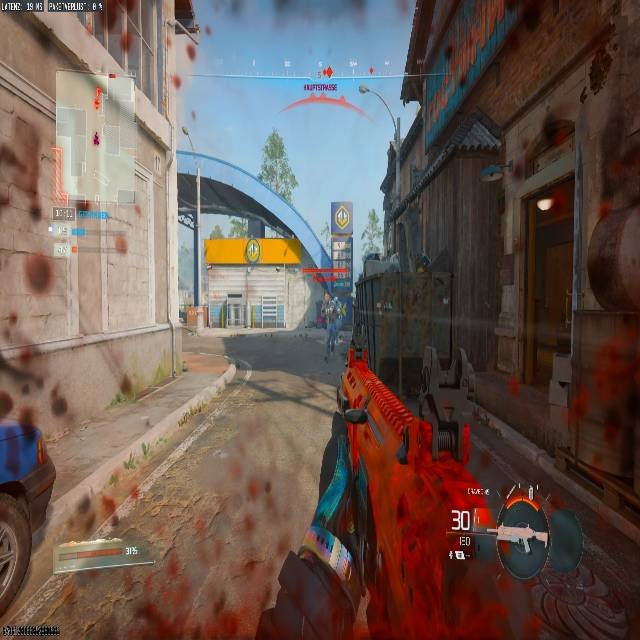player: (320, 291, 344, 364)
